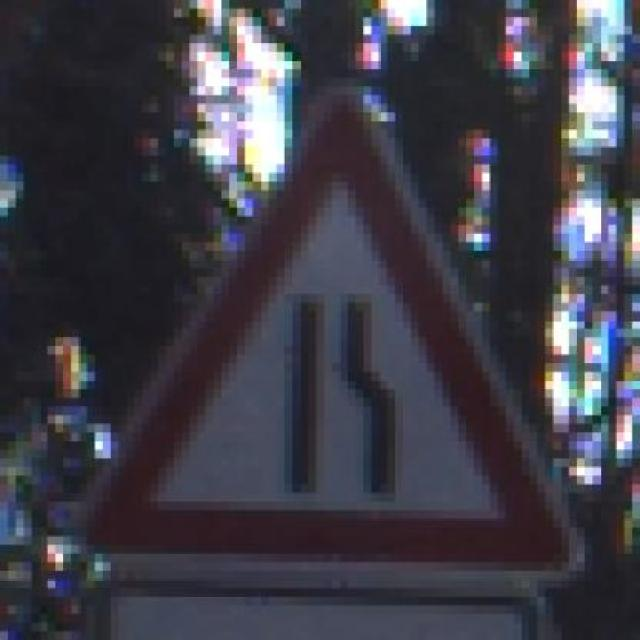-Road narrows on right: (71, 61, 592, 588)
